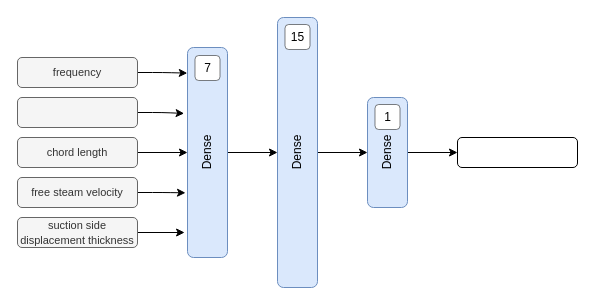
This 595x305 diagram has some shape labels left out. The shapes that lost their labels are listed below. From the top down, each one's centre as x and y in pixels, then its label:
At point 77,112: "angle of attack".
At point 517,152: "noise pressure level".
